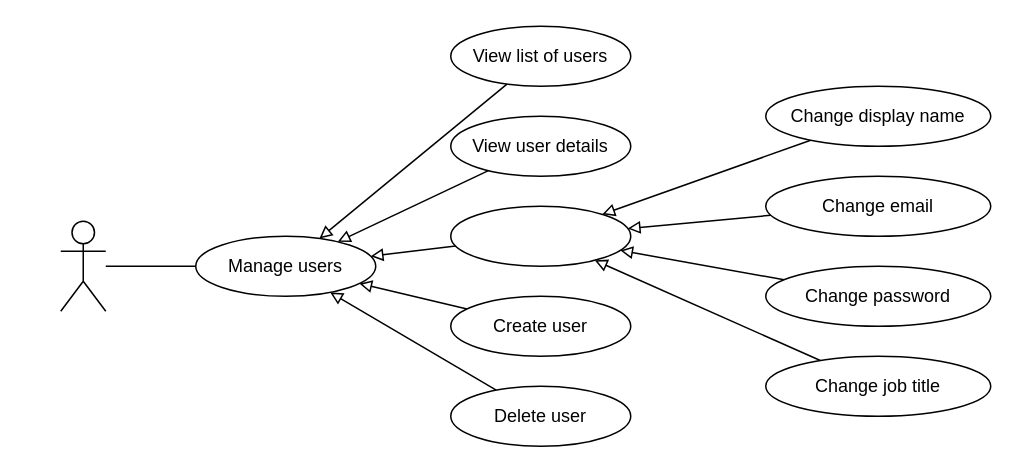
This 1017x473 diagram has some shape labels left out. Each missing label, with the centre of its shape:
"Edit user account" belongs at point (540, 235).
"System Admin" belongs at point (82, 265).
